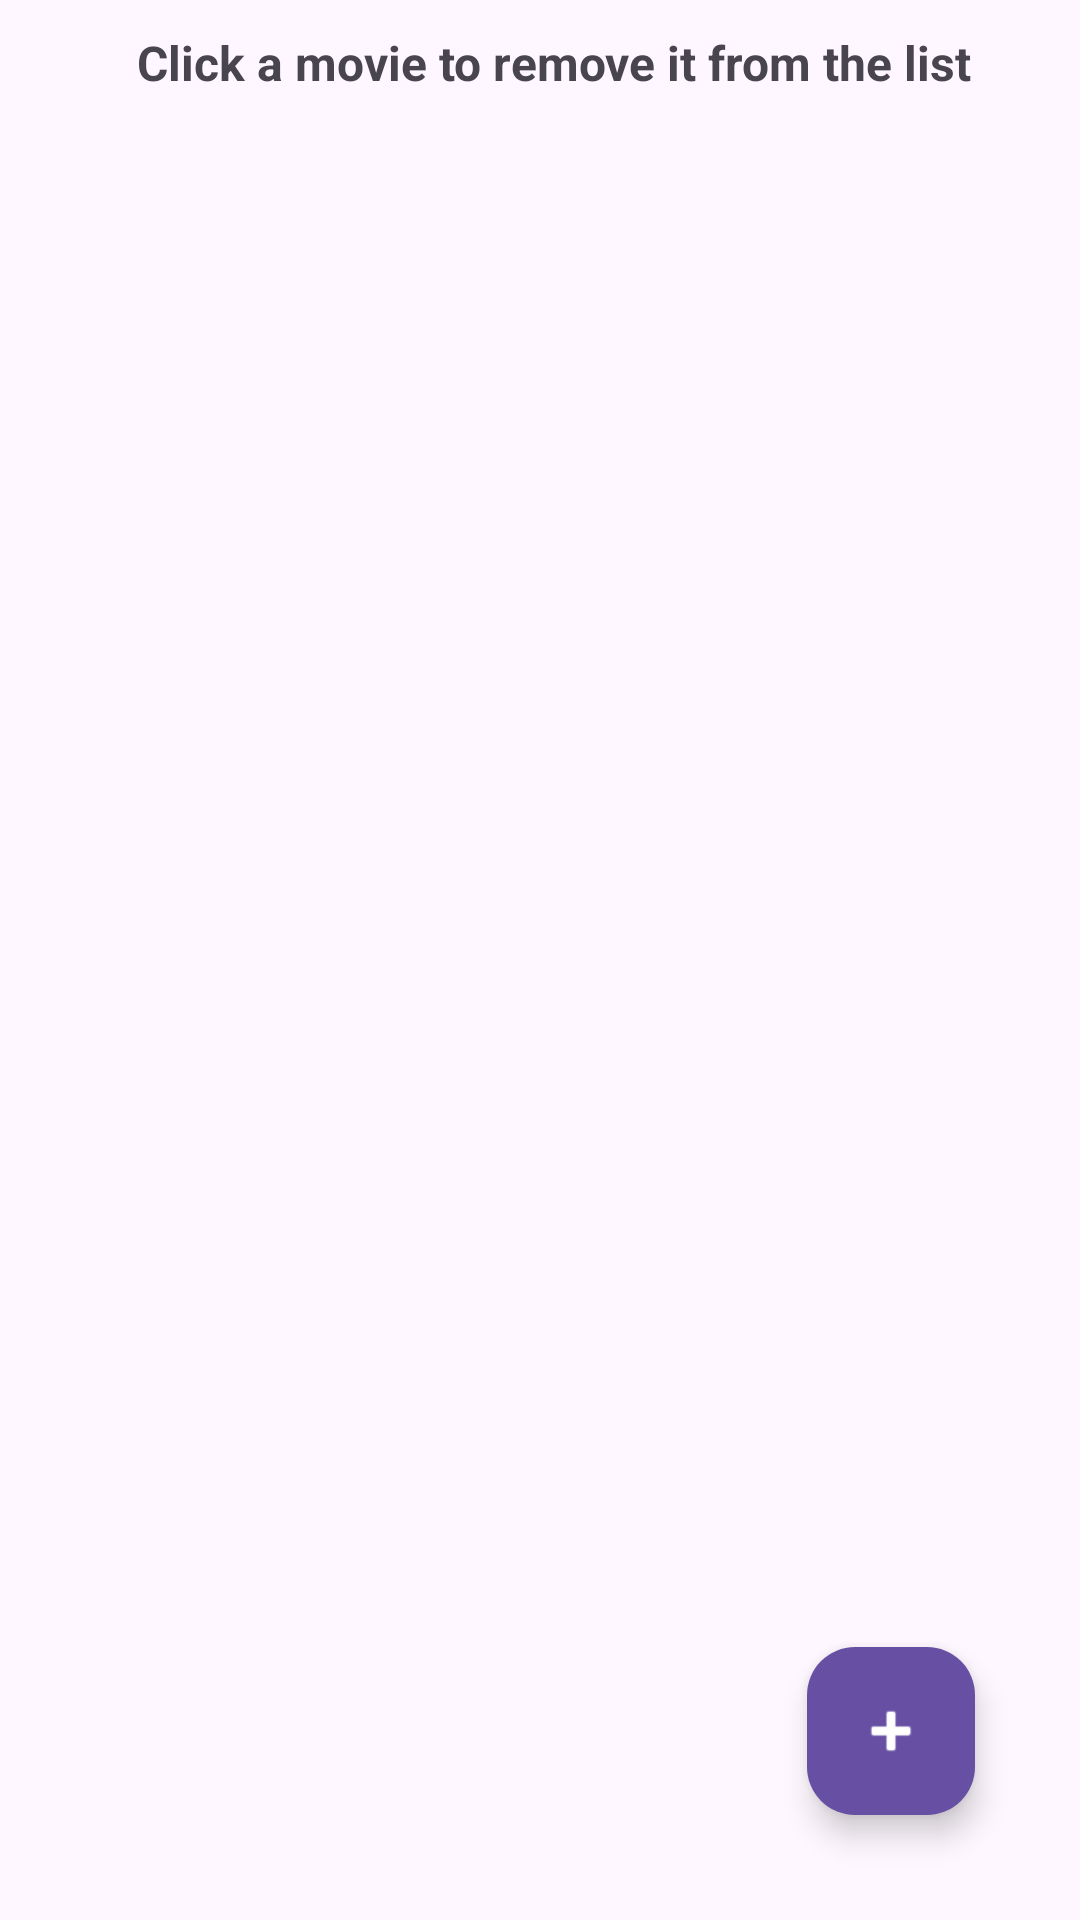

Icon bounding boxes for this 1080*1920 phone screenshot, format (x1, y1, x2, y2):
add: (807, 1647, 975, 1815)
